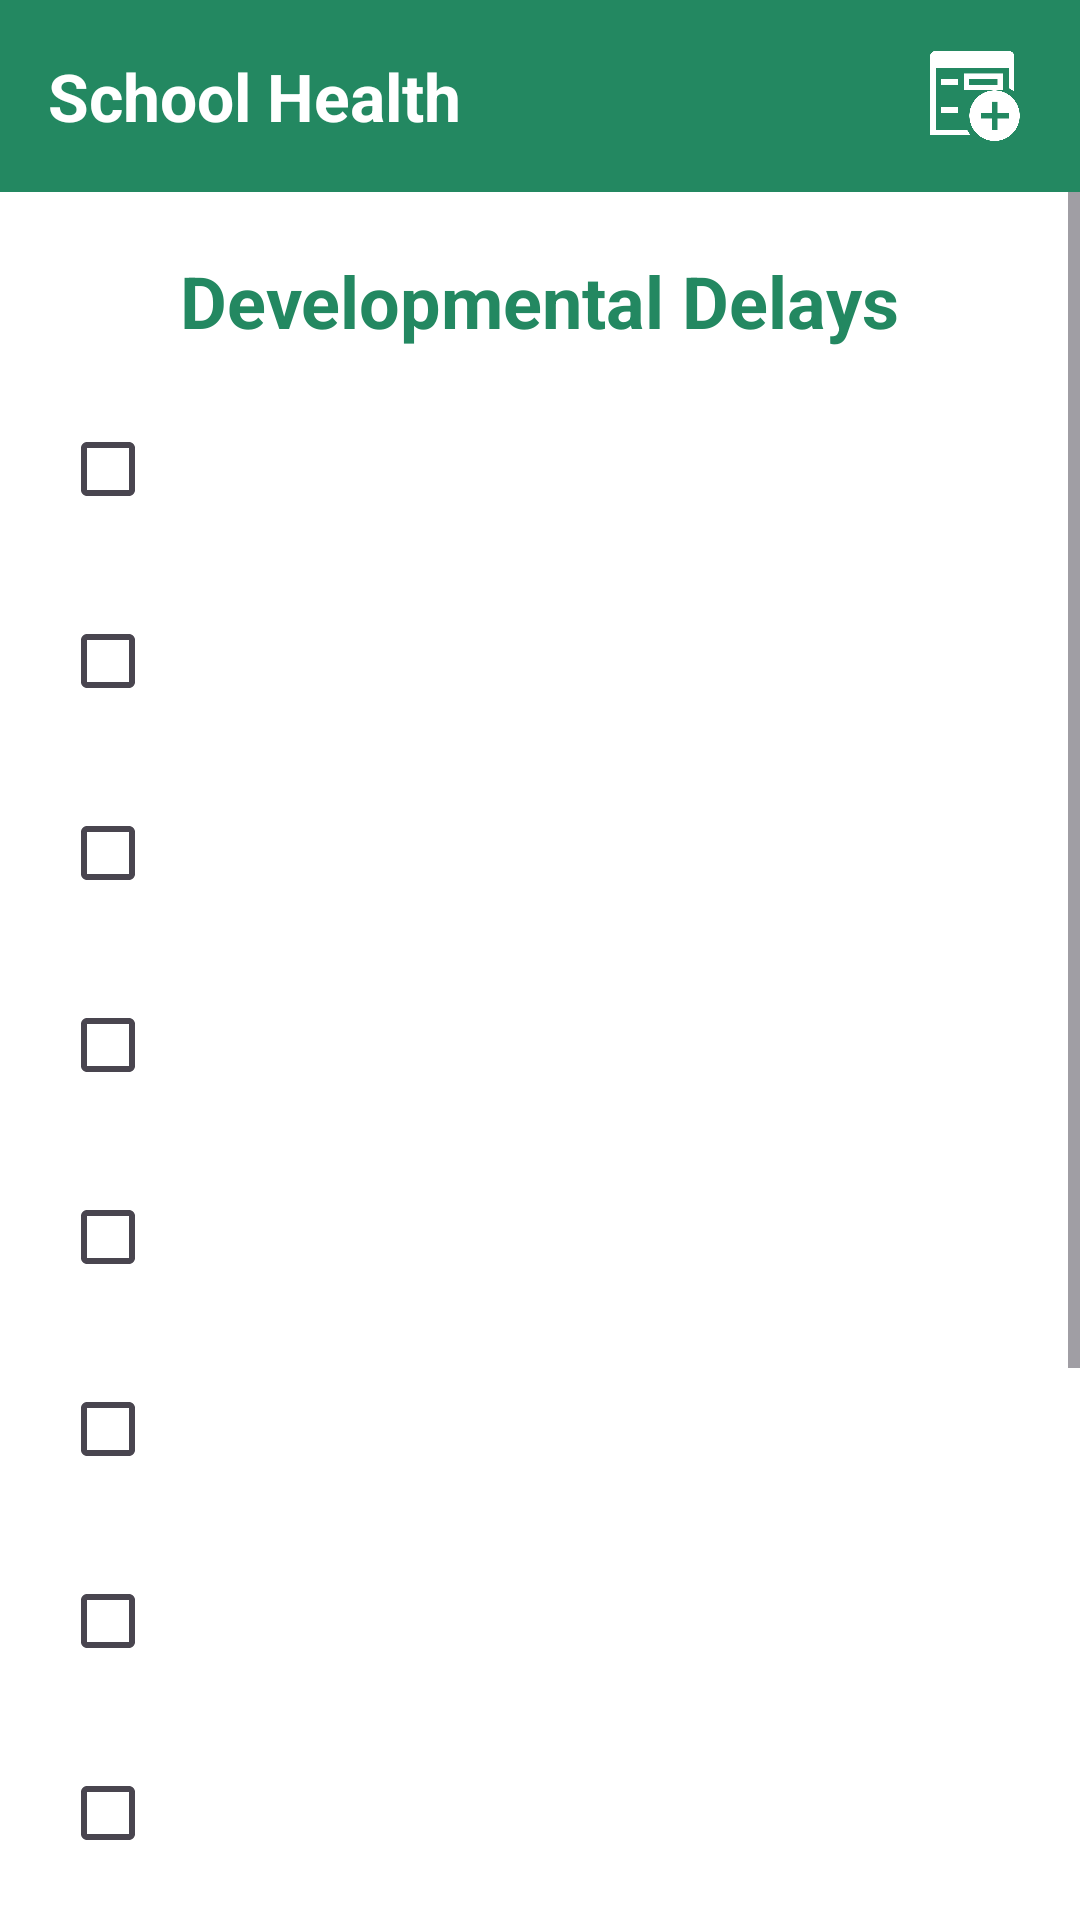

Icon bounding boxes for this 1080×1920 phone screenshot, format [x1, y1, x2, y2]:
form: [930, 51, 1020, 141]
